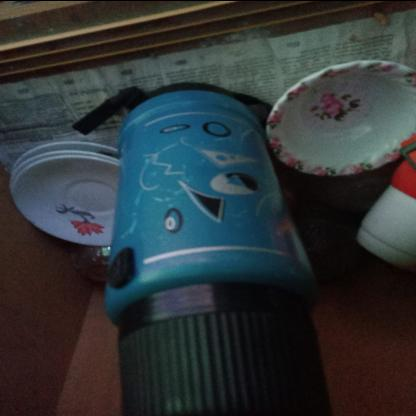bottle: (3, 159, 416, 355)
